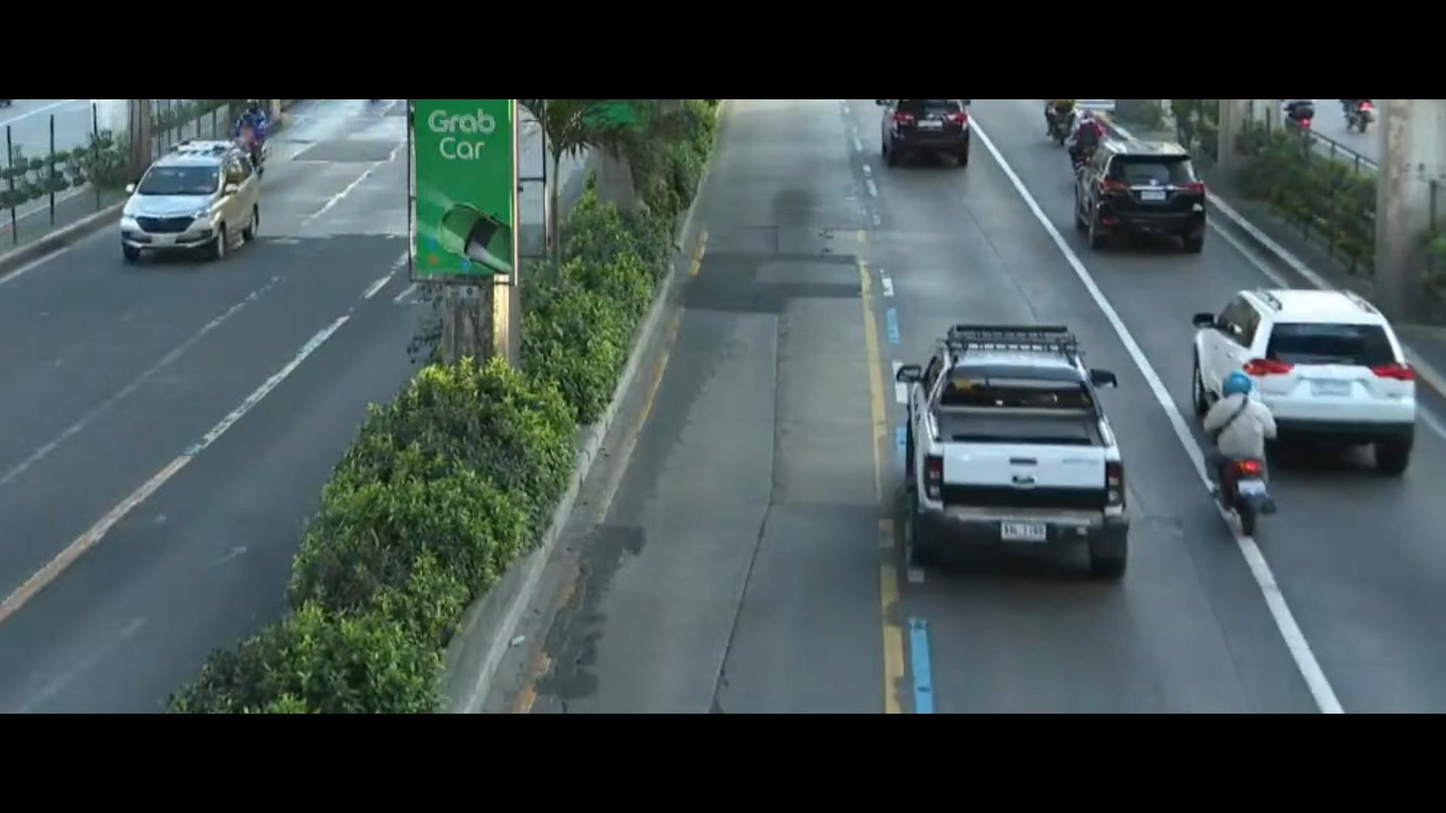Motorcycle: (1194, 365, 1292, 548), (1058, 125, 1130, 179), (230, 100, 283, 163), (1034, 102, 1090, 145)
Pickup: (883, 296, 1158, 621)
SUV: (1181, 271, 1442, 491), (97, 138, 268, 280), (1074, 117, 1210, 262), (875, 95, 983, 159)
